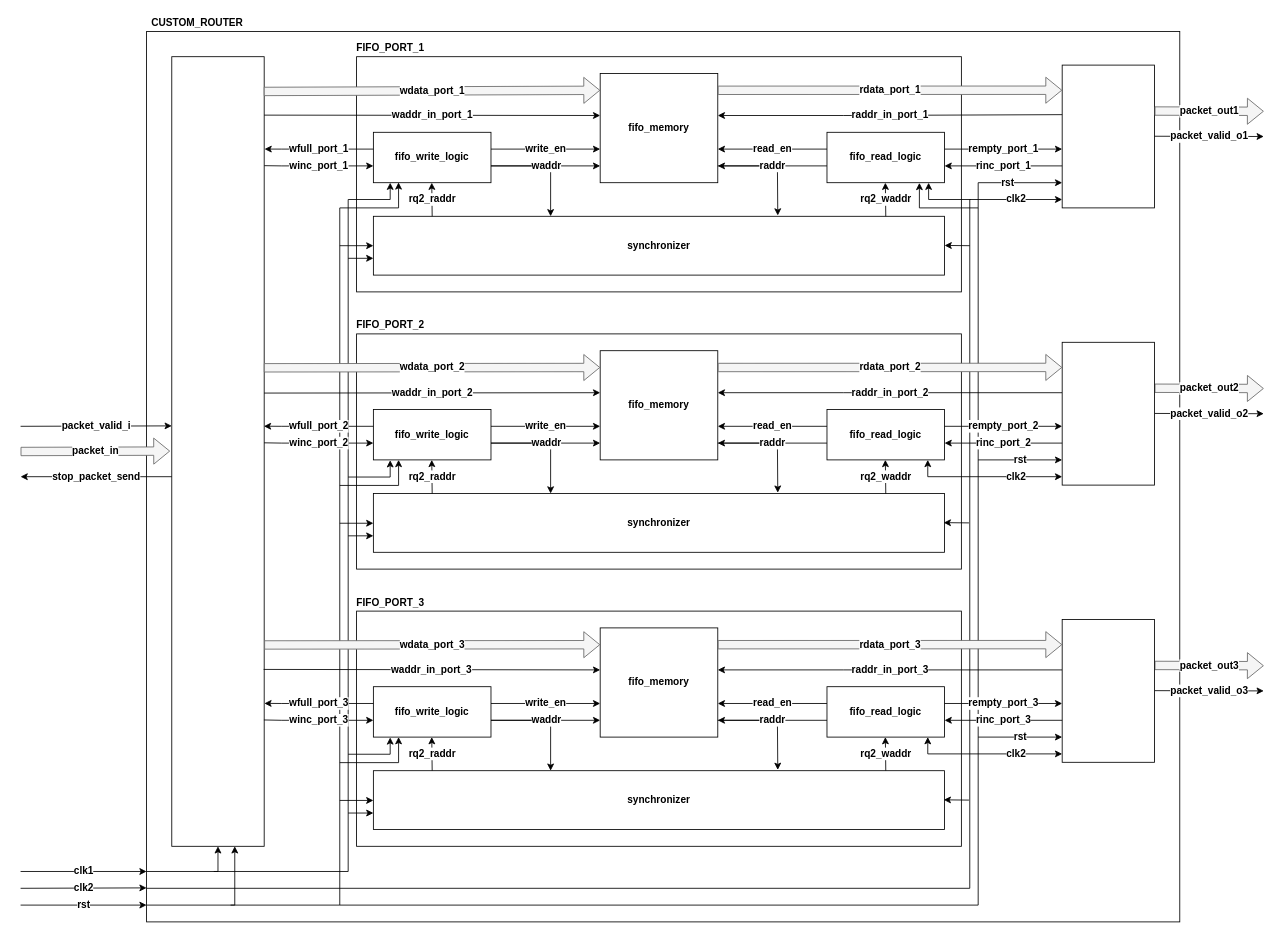
The diagram is 1285 pixels wide and 937 high, and some of its shapes have lost their labels. The box of each missing label's shape, as (x1, y1, x2, y2) in pixels:
packet_receiver: (171, 56, 264, 846)
packet_sender_1: (1061, 64, 1155, 208)
packet_sender_2: (1061, 341, 1155, 485)
packet_sender_3: (1061, 619, 1155, 762)
